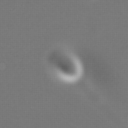normal: (78, 77, 127, 128)
